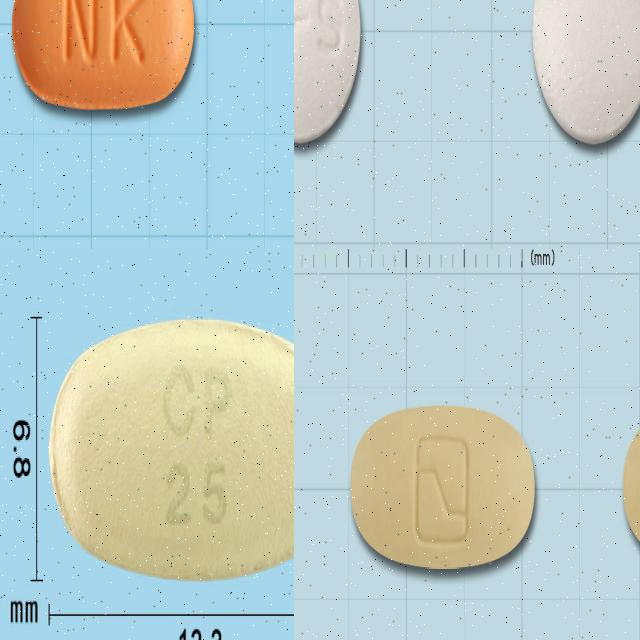Ciproxin: (525, 0, 640, 158), (294, 0, 366, 149)
Clara: (10, 0, 198, 118)
Clarod: (46, 314, 294, 588)
Claroma Tab-500mg: (350, 399, 537, 573)
